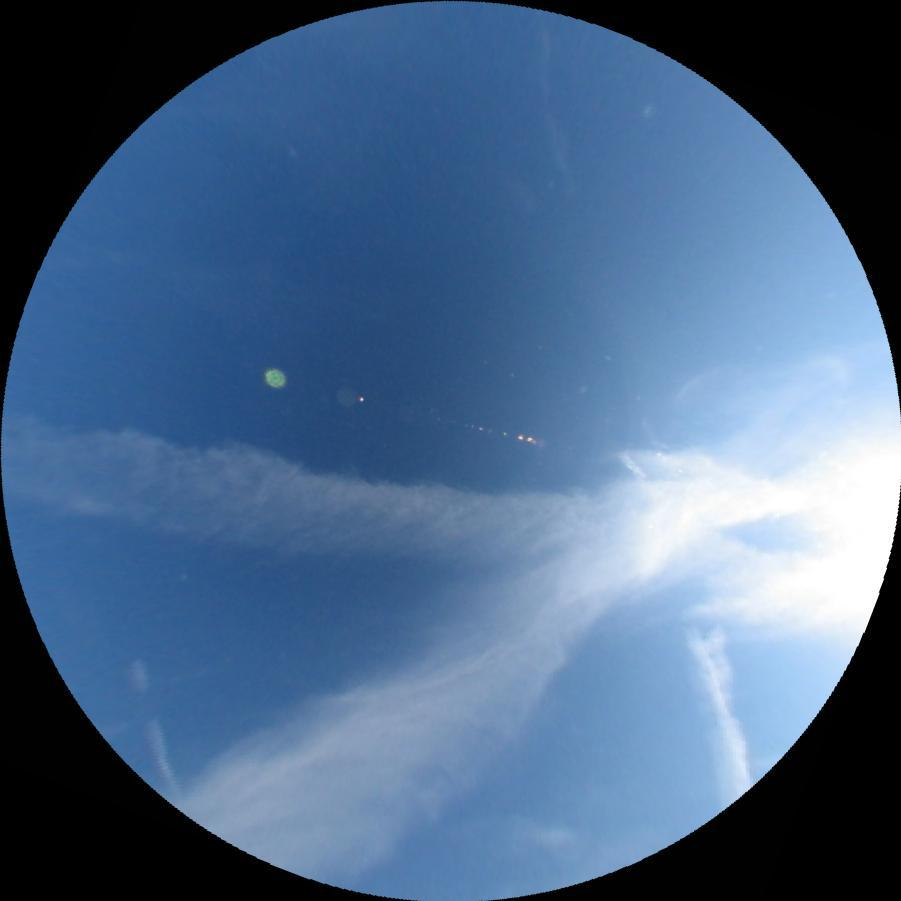contrail old: (617, 449, 751, 769)
contrail veryold: (679, 625, 756, 806)
unknow: (124, 659, 188, 806)
